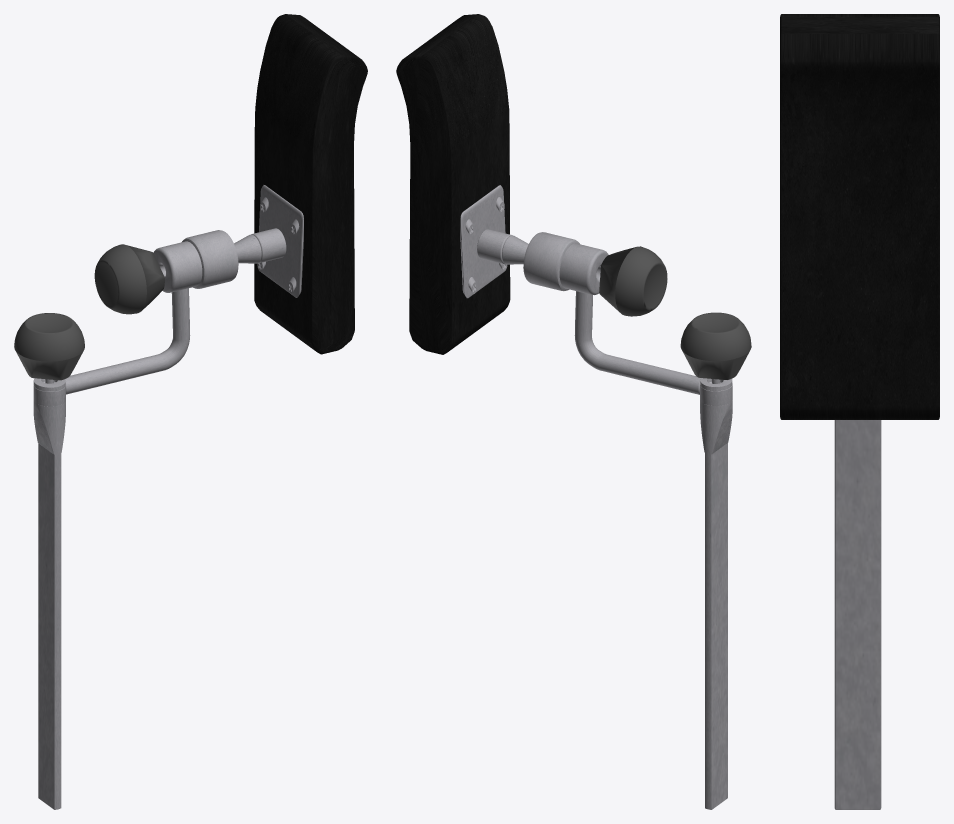
File: light_body_support_L.fbx
The picture shows the model from 3 angles, left to right: view 1: azimuth 30°, elevation 25°; view 2: azimuth 150°, elevation 25°; view 3: azimuth 270°, elevation 25°; orthographic projection. The views are drawn at different scales.
Parts seen in each view (by area): view 1: pad_L, mounting_rod_L, knob_2_L, knob_1_L, curved_pipe_L, plate, bearing_L, connector_L, bullet_hinge_L, cap_L; view 2: pad_L, mounting_rod_L, knob_1_L, knob_2_L, plate, curved_pipe_L, bearing_L, connector_L, bullet_hinge_L, cap_L; view 3: pad_L, mounting_rod_L.
Boxes of the visible parts, bbox=[...] form: pad_L: bbox=[254, 14, 367, 354]; mounting_rod_L: bbox=[33, 401, 65, 809]; knob_2_L: bbox=[14, 313, 84, 380]; knob_1_L: bbox=[94, 244, 164, 314]; curved_pipe_L: bbox=[65, 288, 190, 394]; plate: bbox=[257, 185, 303, 297]; bearing_L: bbox=[182, 230, 238, 288]; connector_L: bbox=[153, 241, 202, 292]; bullet_hinge_L: bbox=[234, 228, 286, 263]; cap_L: bbox=[33, 378, 65, 406]; pad_L: bbox=[396, 14, 510, 354]; mounting_rod_L: bbox=[700, 400, 732, 809]; knob_1_L: bbox=[599, 246, 667, 316]; knob_2_L: bbox=[680, 312, 751, 379]; plate: bbox=[460, 185, 507, 298]; curved_pipe_L: bbox=[574, 291, 700, 394]; bearing_L: bbox=[523, 232, 579, 291]; connector_L: bbox=[559, 243, 608, 295]; bullet_hinge_L: bbox=[477, 229, 528, 264]; cap_L: bbox=[700, 378, 732, 405]; pad_L: bbox=[780, 14, 939, 419]; mounting_rod_L: bbox=[834, 420, 881, 809].
Size of the model in its own units: 22.34 by 46.79 by 7.
3 materials, 2 textured.
